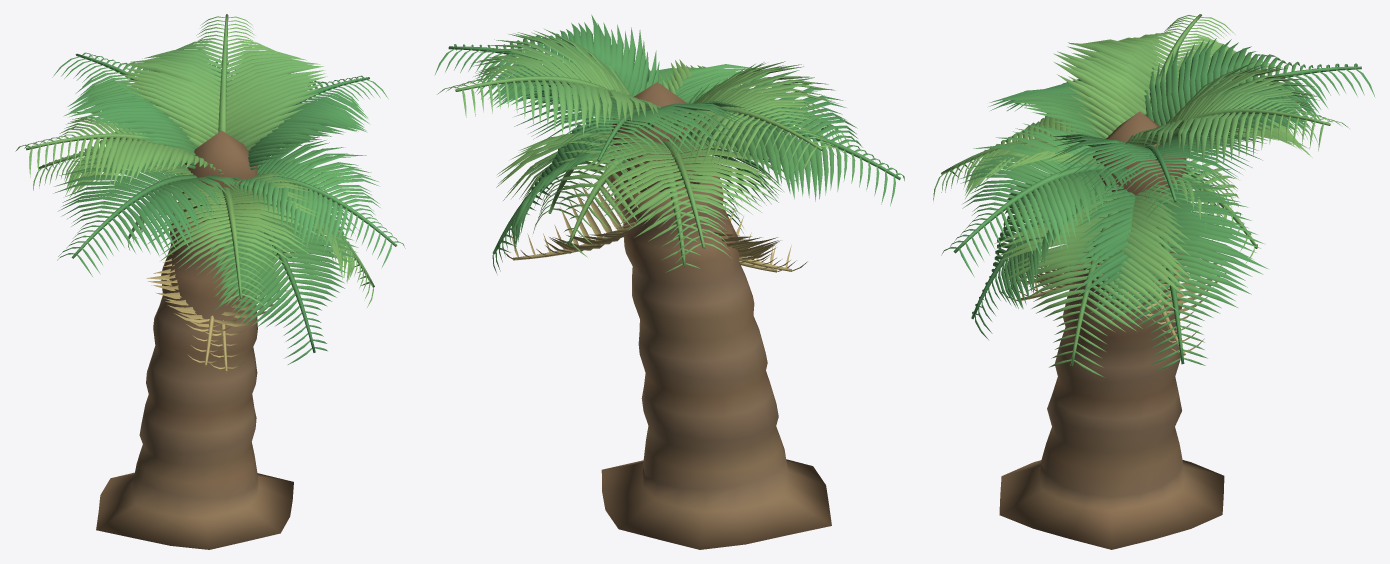
Rendered from palm_ground.f3147832.glb.
The picture shows the model from 3 angles, left to right: view 1: azimuth 30°, elevation 25°; view 2: azimuth 150°, elevation 25°; view 3: azimuth 270°, elevation 25°; orthographic projection. The views are drawn at different scales.
Visible parts, largest first — view 1: palm_ground; view 2: palm_ground; view 3: palm_ground.
Boxes of the visible parts, x1,y1,x2,y2 form: palm_ground: [15, 14, 405, 549]; palm_ground: [434, 14, 904, 549]; palm_ground: [933, 14, 1375, 549].
Size of the model in its own units: 1.86 by 1.96 by 1.78.
